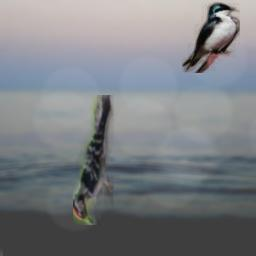Swallow: (182, 2, 240, 73)
Woodpecker: (73, 95, 114, 225)
